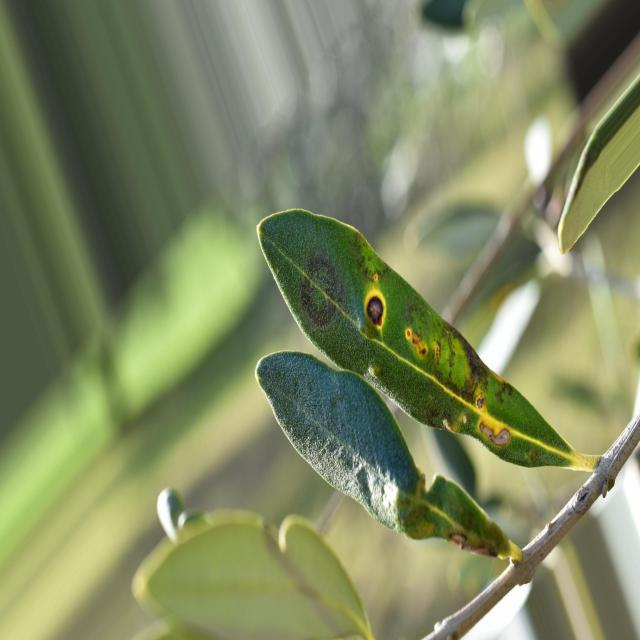Peacock Eye: (257, 209, 600, 471), (256, 351, 510, 559)
